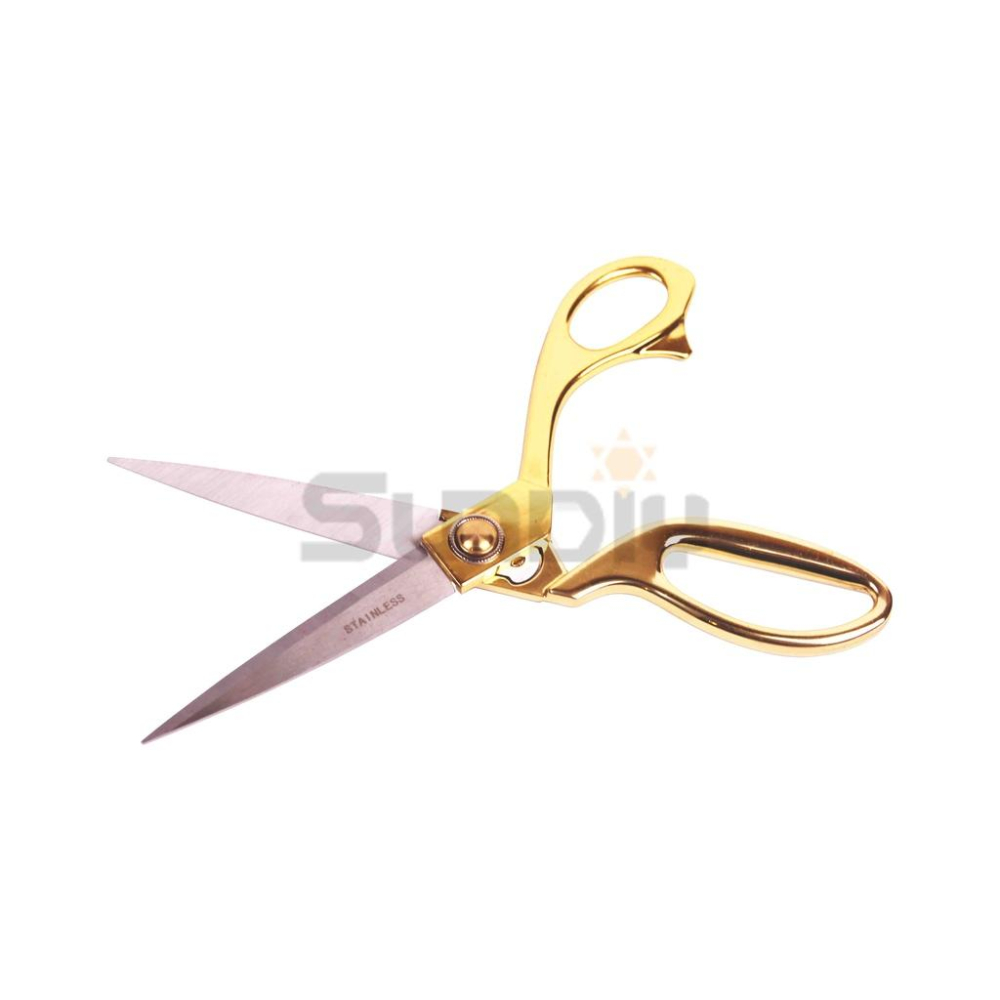scissors: (85, 254, 898, 750)
